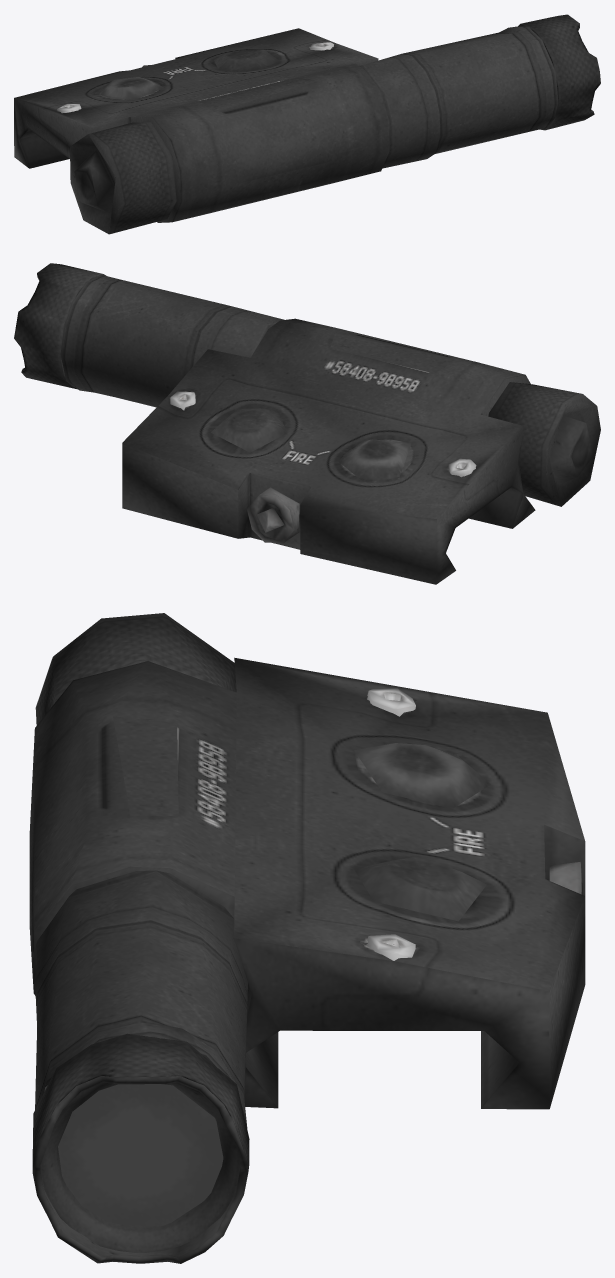
File: WeaponLightMedium.fbx
The picture shows the model from 3 angles, top to bottom: view 1: azimuth 30°, elevation 25°; view 2: azimuth 150°, elevation 25°; view 3: azimuth 270°, elevation 25°; orthographic projection. The views are drawn at different scales.
Visible parts, largest first — view 1: WeaponLightMedium; view 2: WeaponLightMedium; view 3: WeaponLightMedium.
Part boxes in pixels (x1,y1,x2,y2): WeaponLightMedium: (14,14,600,234); WeaponLightMedium: (14,263,600,584); WeaponLightMedium: (29,613,585,1263).
Size of the model in its own units: 0.0667 by 0.0136 by 0.0328.
